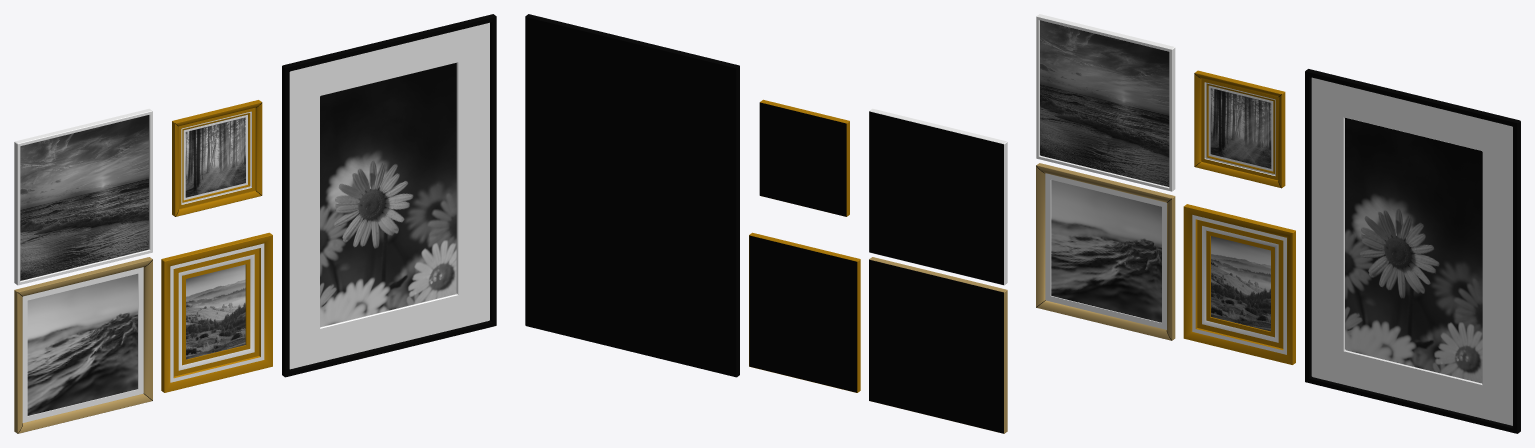
Rendered from frameone.glb.
3 views of the same model, side by side, from view 1: azimuth 30°, elevation 25°; view 2: azimuth 150°, elevation 25°; view 3: azimuth 330°, elevation 25° (orthographic).
Parts seen in each view (by area): view 1: Frame_05_Frame_Version_02_0, Frame_03_Frame_Version_02_0, Frame_01_Frame_Version_02_0, Frame_04_Frame_Version_02_0, Frame_02_Frame_Version_02_0; view 2: Frame_05_Frame_Version_02_0, Frame_03_Frame_Version_02_0, Frame_01_Frame_Version_02_0, Frame_04_Frame_Version_02_0, Frame_02_Frame_Version_02_0; view 3: Frame_05_Frame_Version_02_0, Frame_03_Frame_Version_02_0, Frame_01_Frame_Version_02_0, Frame_04_Frame_Version_02_0, Frame_02_Frame_Version_02_0.
Part boxes in pixels (bbox=[...]): Frame_05_Frame_Version_02_0: bbox=[282, 14, 496, 377]; Frame_03_Frame_Version_02_0: bbox=[14, 257, 152, 433]; Frame_01_Frame_Version_02_0: bbox=[14, 108, 152, 285]; Frame_04_Frame_Version_02_0: bbox=[161, 232, 272, 392]; Frame_02_Frame_Version_02_0: bbox=[172, 100, 262, 216]; Frame_05_Frame_Version_02_0: bbox=[525, 14, 739, 377]; Frame_03_Frame_Version_02_0: bbox=[869, 257, 1007, 433]; Frame_01_Frame_Version_02_0: bbox=[869, 108, 1007, 285]; Frame_04_Frame_Version_02_0: bbox=[749, 232, 860, 392]; Frame_02_Frame_Version_02_0: bbox=[759, 99, 849, 216]; Frame_05_Frame_Version_02_0: bbox=[1305, 69, 1520, 433]; Frame_03_Frame_Version_02_0: bbox=[1036, 163, 1175, 340]; Frame_01_Frame_Version_02_0: bbox=[1036, 14, 1175, 191]; Frame_04_Frame_Version_02_0: bbox=[1183, 204, 1295, 364]; Frame_02_Frame_Version_02_0: bbox=[1194, 70, 1285, 188].
Size of the model in its own units: 237 by 147 by 2.99.
1 material, 1 textured.
